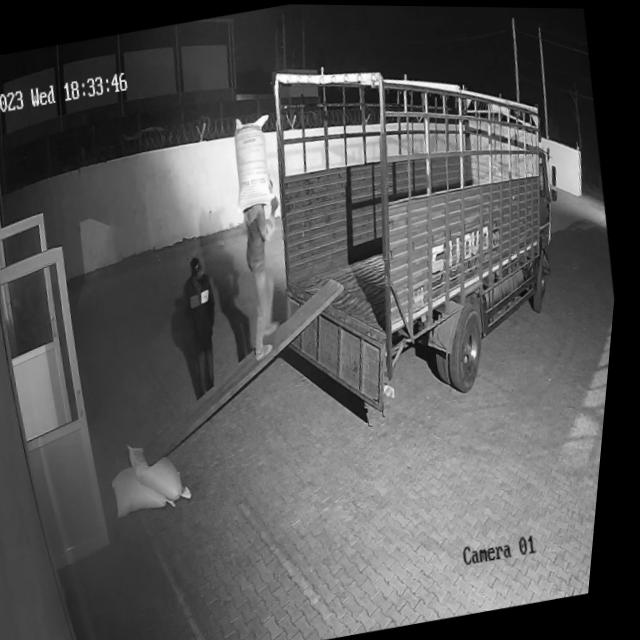sack: (225, 110, 288, 211), (130, 433, 206, 508), (116, 457, 189, 517)
